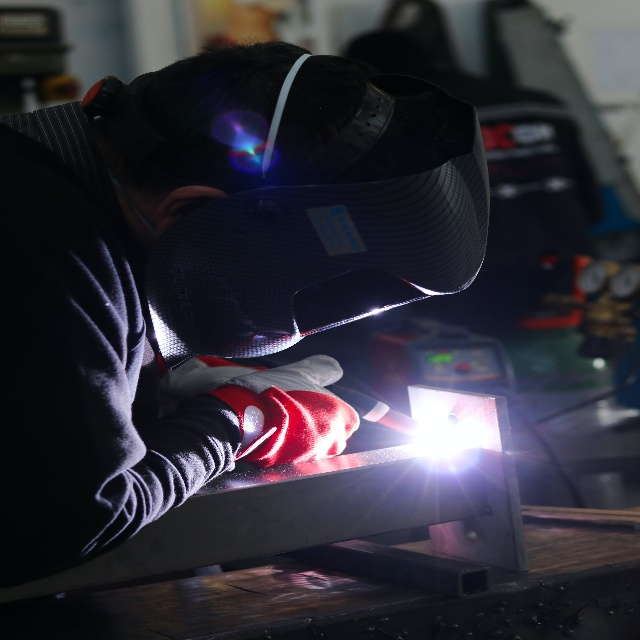Guantes: (212, 357, 362, 460)
